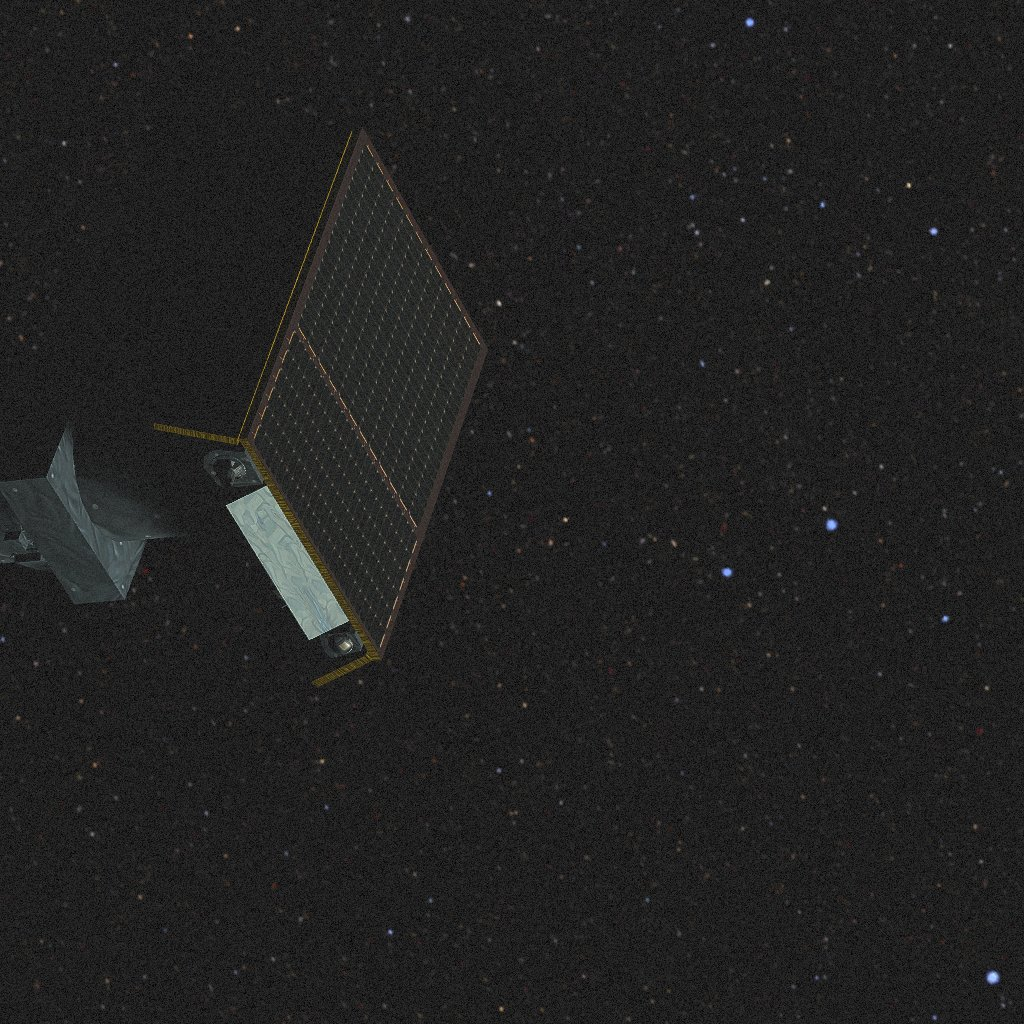cheops: (0, 97, 488, 687)
